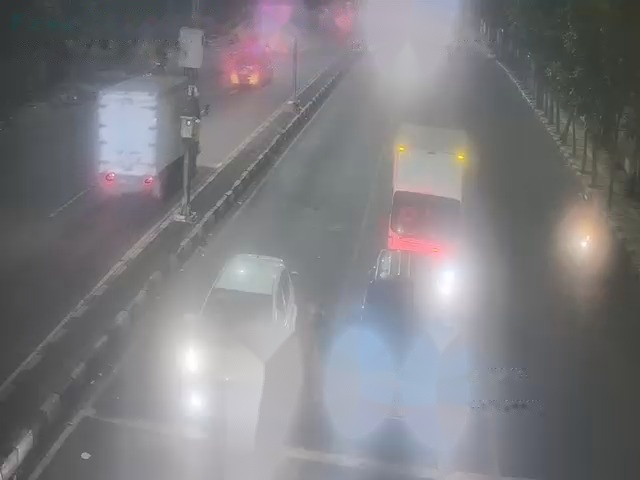Mobil: (189, 242, 303, 412), (348, 249, 437, 402)
Motor: (570, 218, 599, 269)
Truk: (385, 131, 472, 272), (89, 74, 184, 197)
